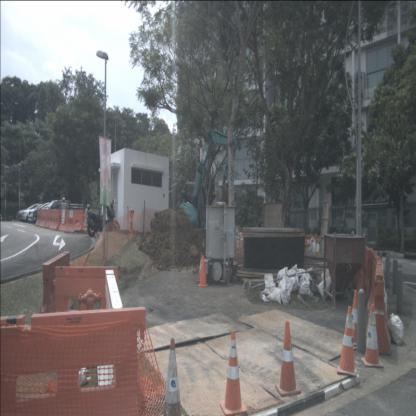movable_object-barrier: (0, 307, 140, 415), (55, 265, 118, 328), (367, 254, 390, 352), (42, 251, 74, 314), (65, 209, 83, 232), (51, 210, 60, 230), (58, 209, 66, 231), (46, 209, 53, 228), (40, 208, 46, 228), (35, 208, 41, 226)
movable_object-trafficcone: (222, 330, 245, 415), (161, 336, 185, 416), (277, 318, 300, 395), (338, 306, 356, 376), (363, 301, 381, 367), (350, 289, 360, 346), (198, 255, 208, 288), (198, 251, 204, 283)
vehicle-car: (40, 200, 70, 223)
vehicle-motorcycle: (87, 199, 120, 237)
